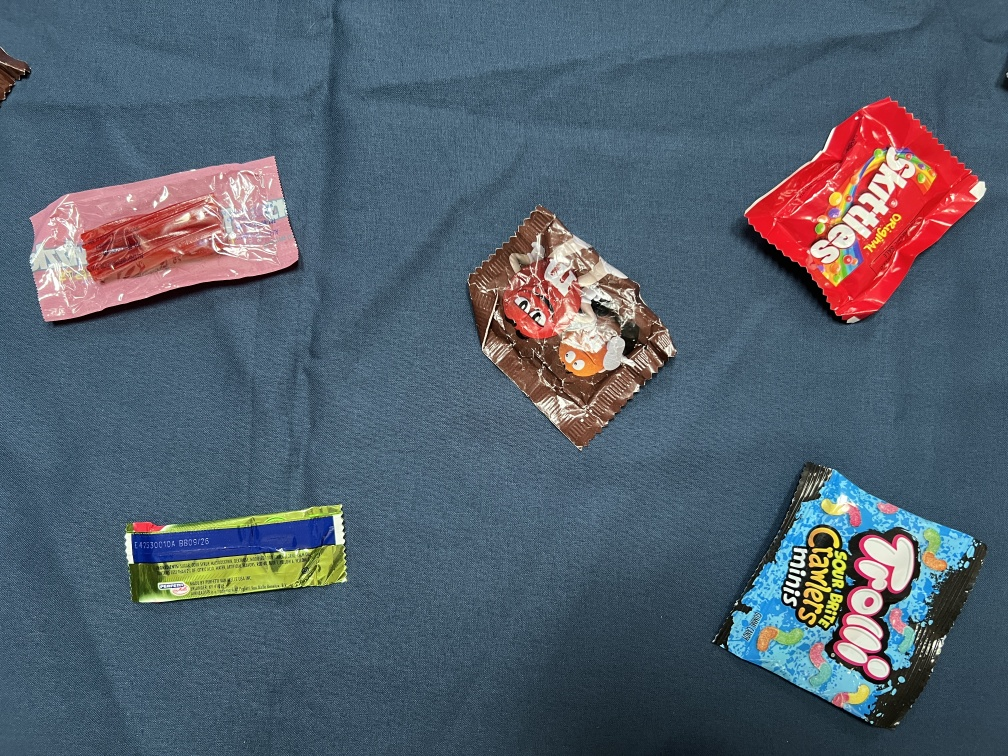MMs_peanut: (457, 196, 684, 445)
airheads: (110, 496, 363, 613)
gummy_worms: (717, 460, 989, 731)
skittles: (737, 73, 994, 342)
twizzlers: (13, 154, 332, 323)
